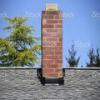chimneys: (41, 4, 63, 78)
